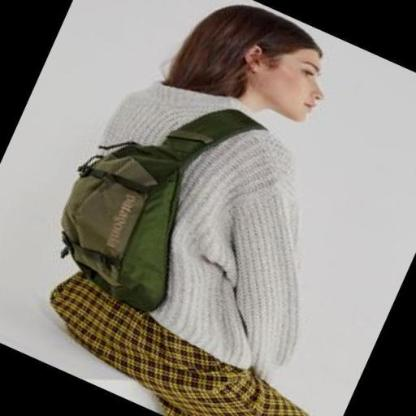bag: (56, 102, 270, 316)
person: (54, 1, 327, 416)
